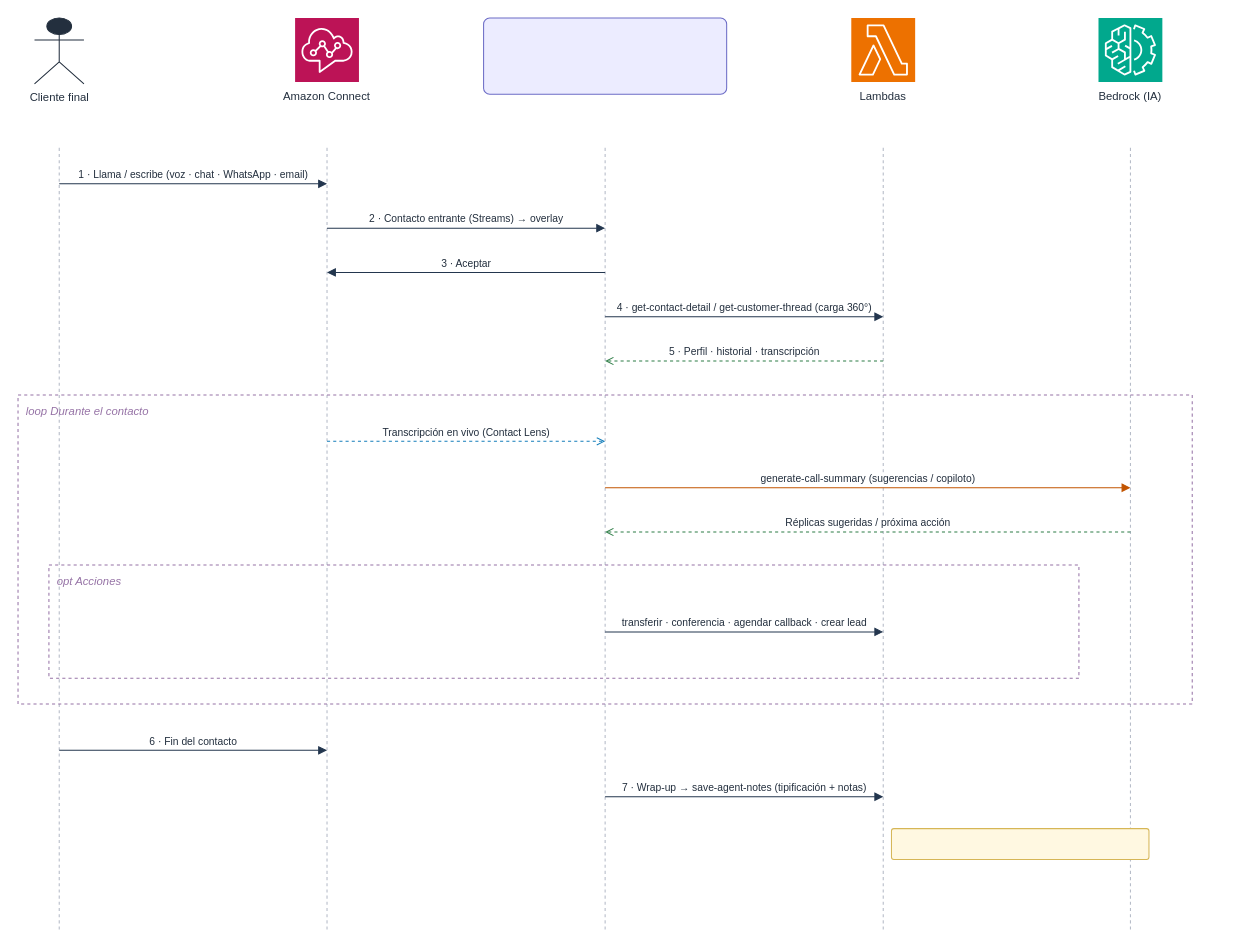
This 1260x950 diagram has some shape labels left out. The shapes that lost their labels are listed below. From the top down, each one's centre as x and y in pixels, then its label:
At pixel 605 55: "Agente (Workspace)".
At pixel 1019 844: "8 · update-customer-profile · wrapup-history · (Salesforce)".
